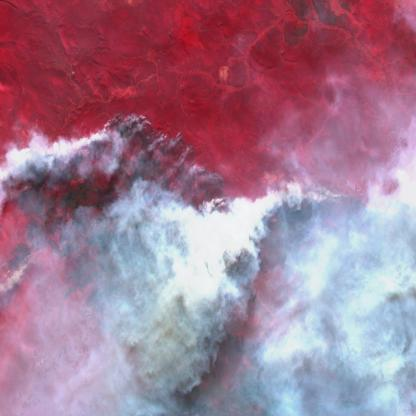fire: (0, 104, 416, 288)
